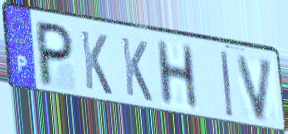H: (153, 38, 201, 111)
I: (219, 48, 235, 120)
K: (119, 34, 155, 105), (79, 27, 114, 98)
P: (37, 18, 76, 89)
V: (234, 53, 276, 125)
